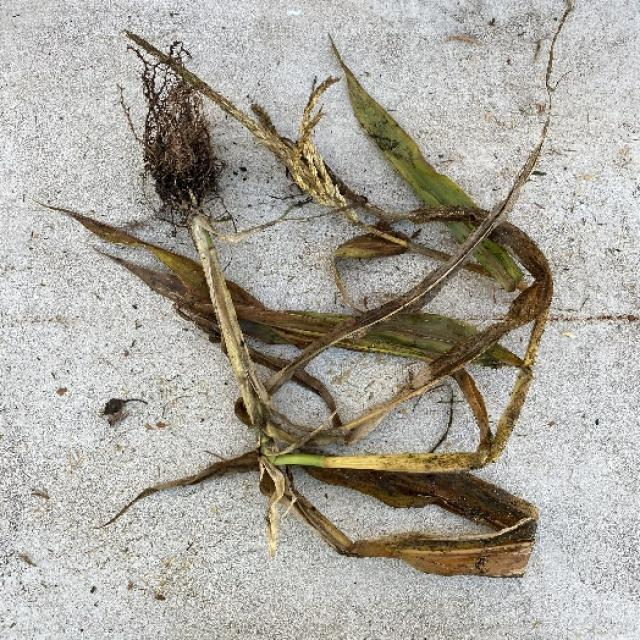organik: (71, 40, 576, 589)
